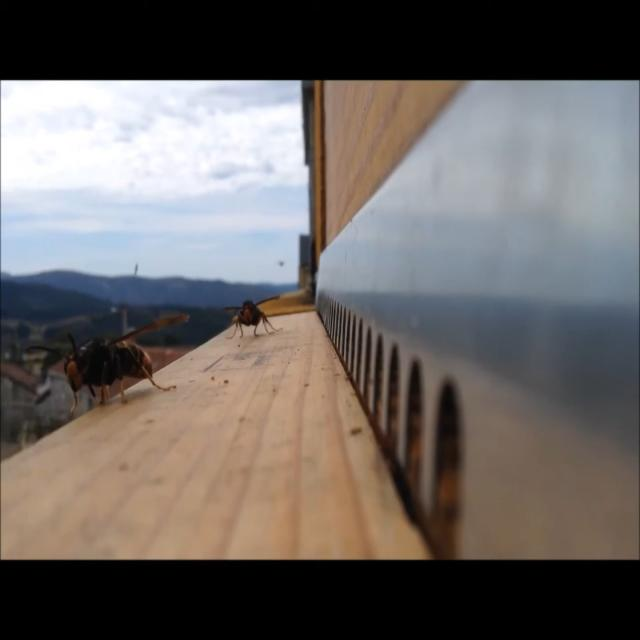Hornets: (62, 311, 190, 411), (219, 294, 283, 338)
